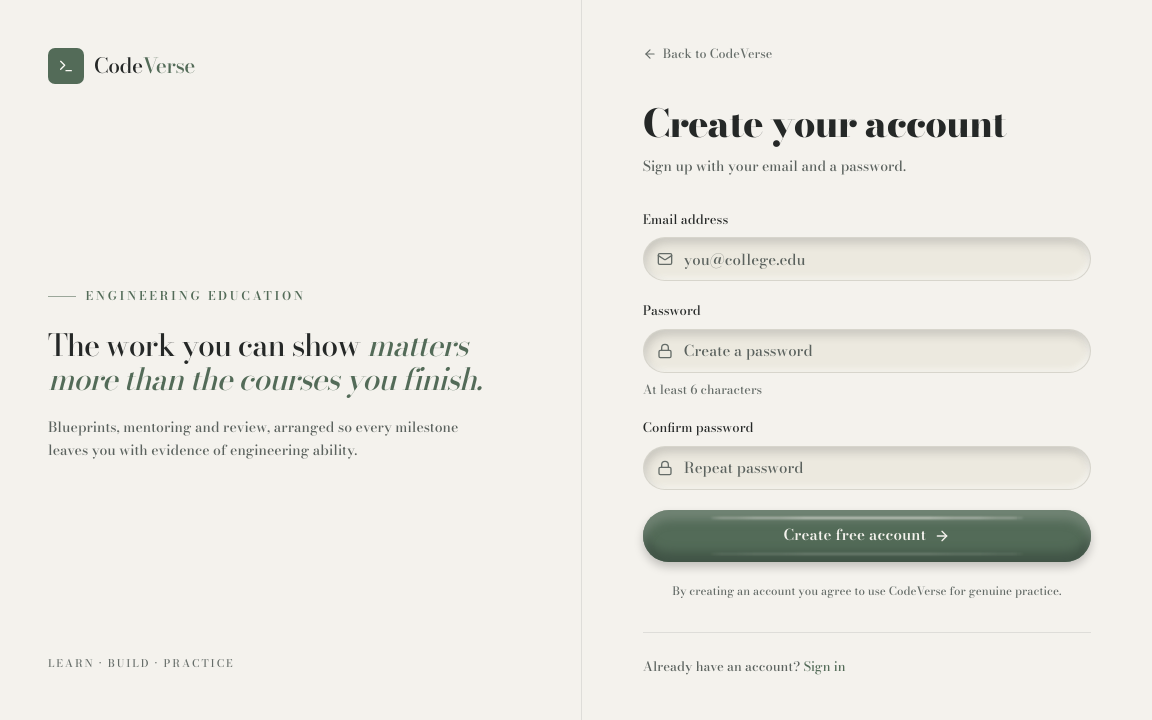
Test: Register page › shows the required message when the email already exists
Type "taken@codeverse.test" into the field labelled "Email address" at (867, 259), box [643,237,1091,281]
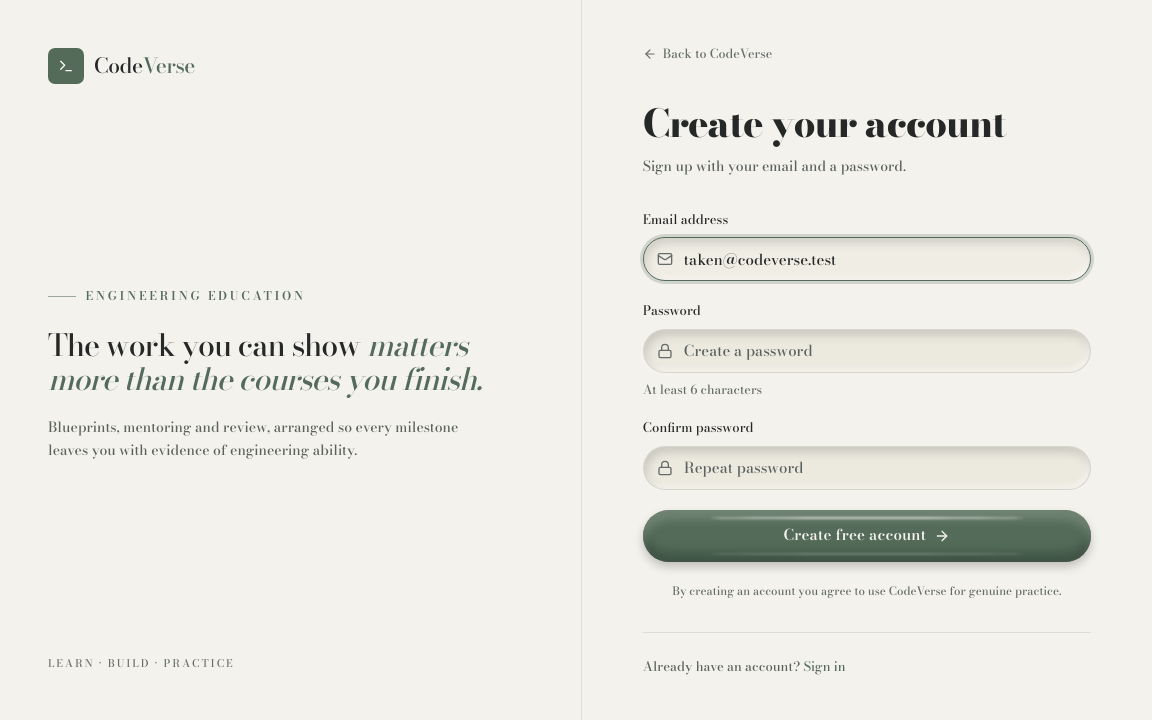
Type "PhaseB#Strong2026" into the password field labelled "Password" at (867, 351), box [643,329,1091,373]
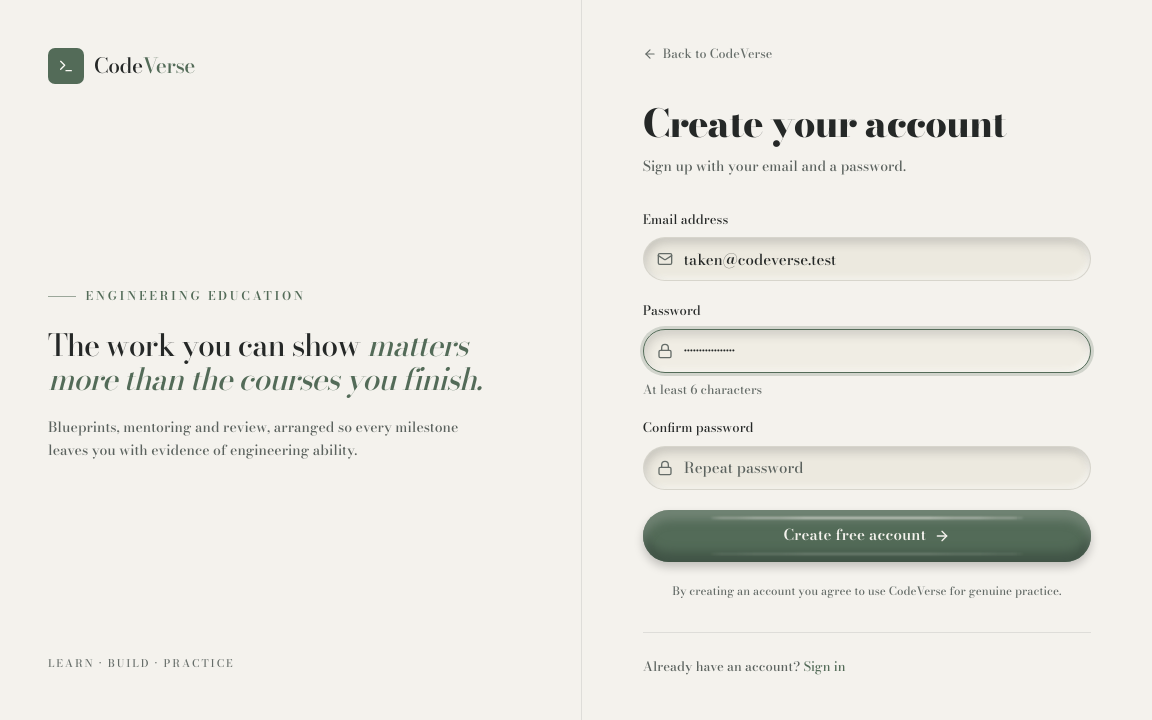
Type "PhaseB#Strong2026" into the password field labelled "Confirm password" at (867, 468), box [643,446,1091,490]
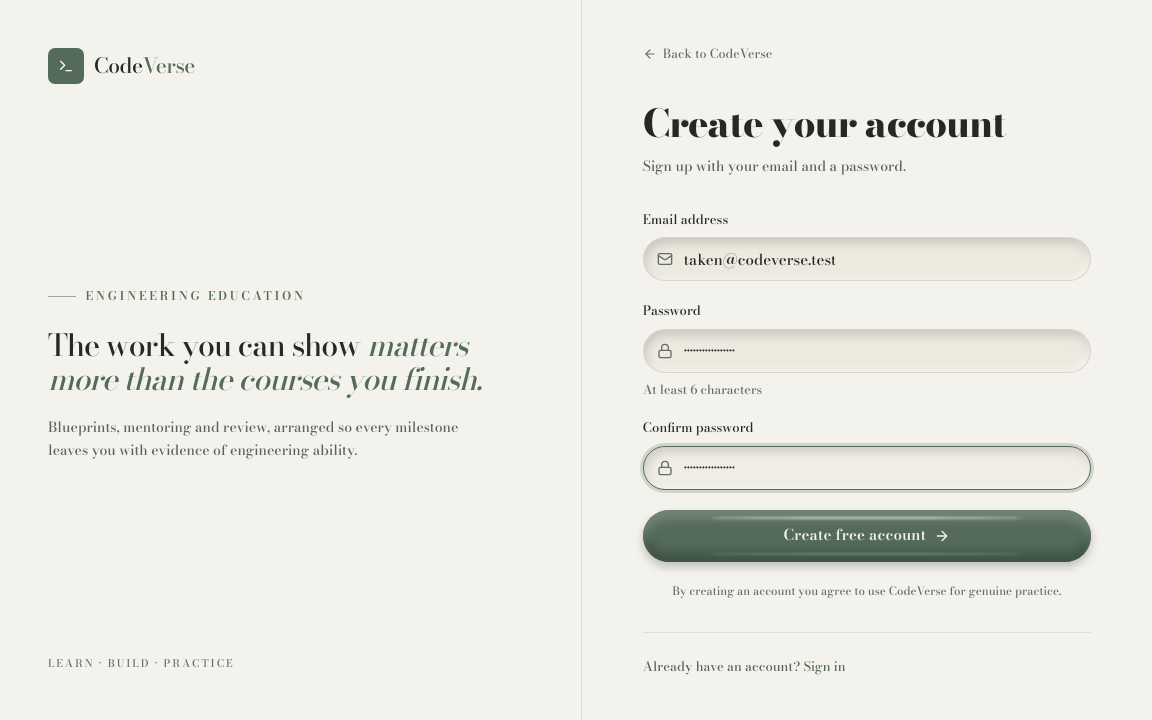
Click the button "Create free account" at (867, 536), box [643,510,1091,562]
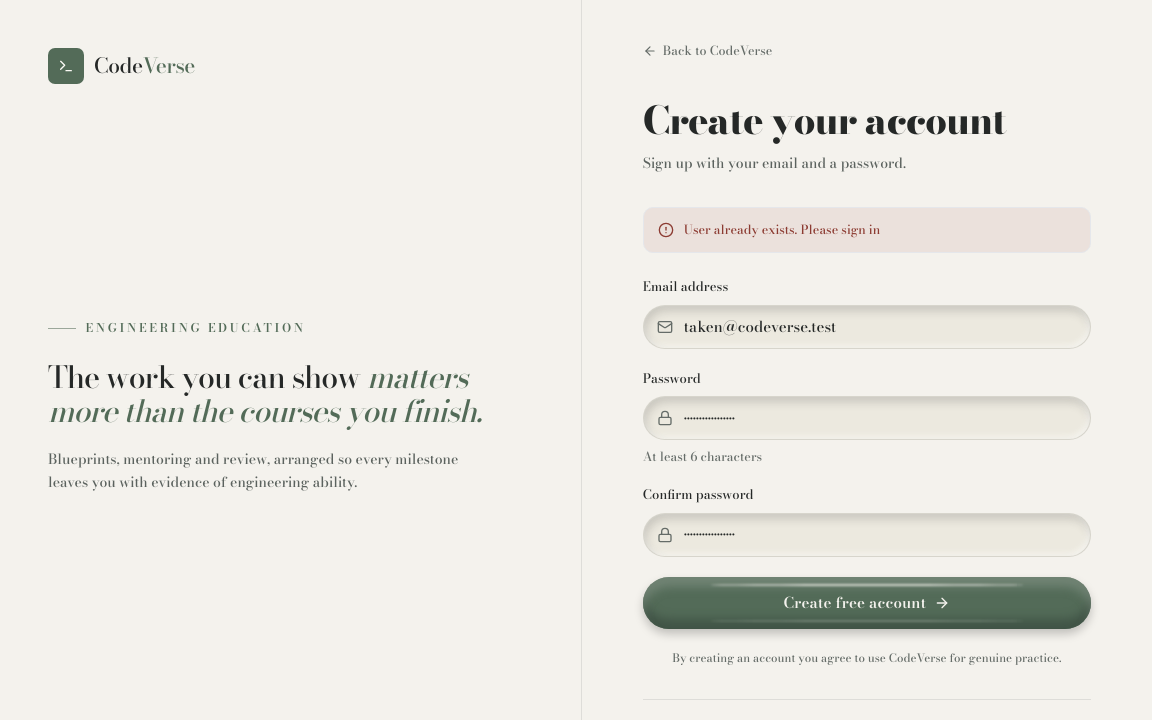
Now the text "User already exists. Please sign in" is shown, box [684,220,880,240]
